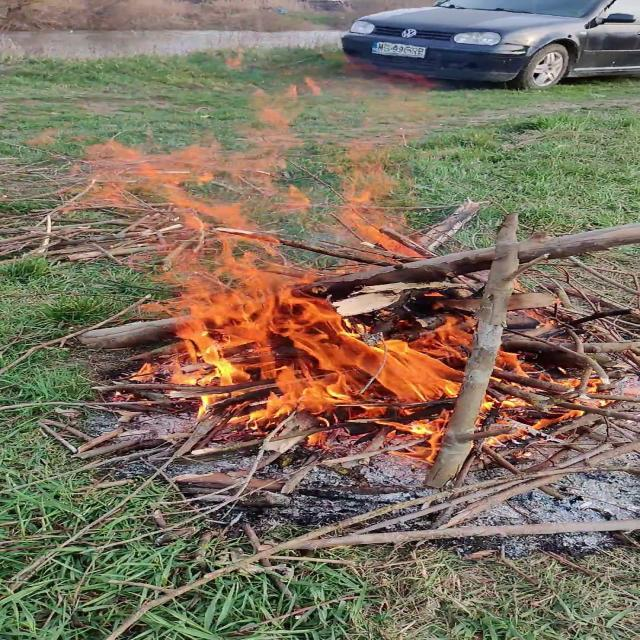Fire: (7, 80, 600, 448)
